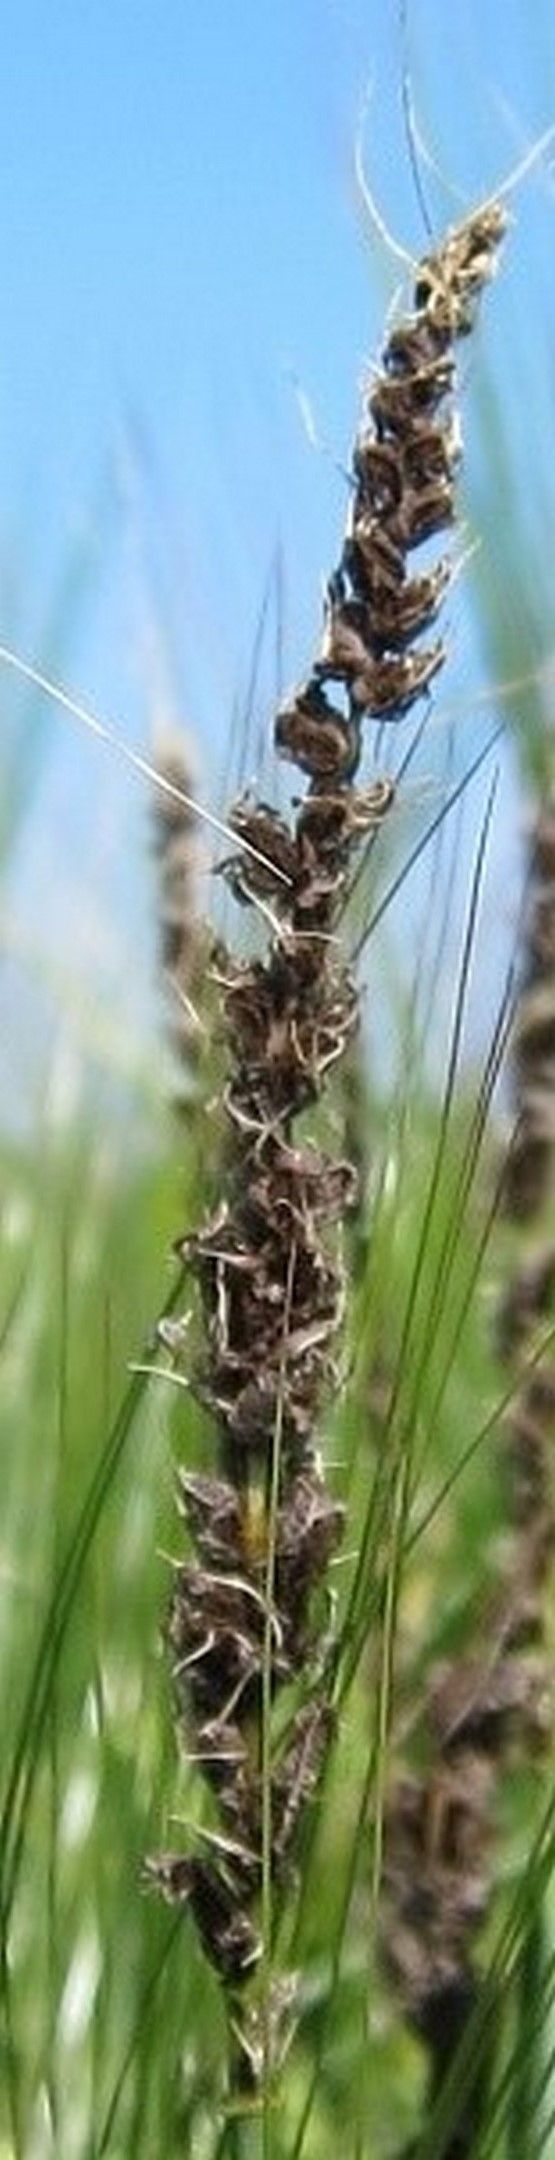Wheat Loose Smut: (169, 205, 555, 1862)
